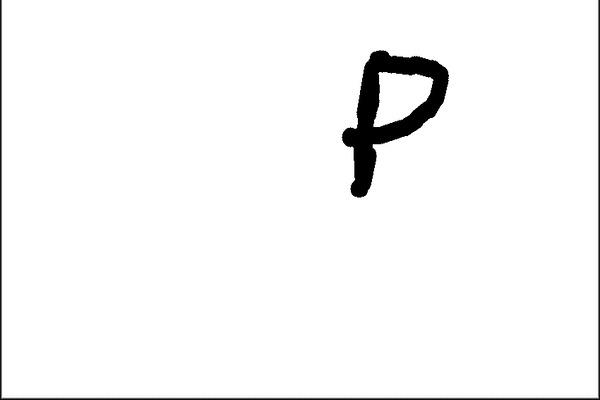P: (337, 39, 454, 206)
